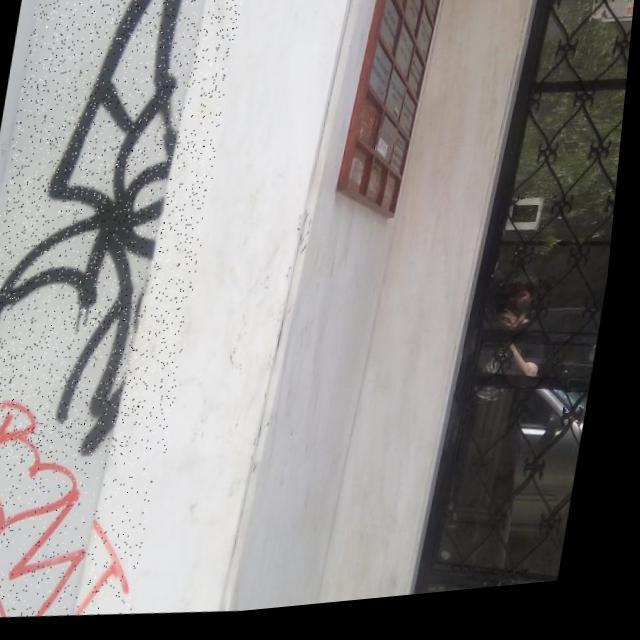-: (0, 0, 245, 473), (0, 381, 176, 631)
